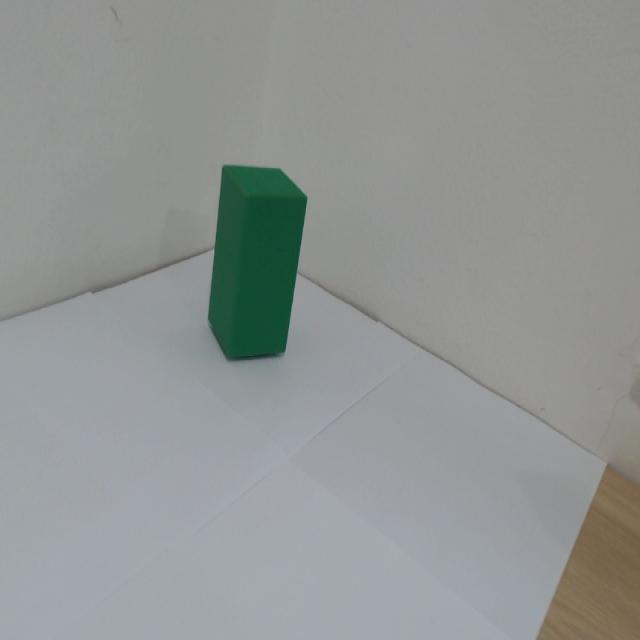cube: (199, 83, 349, 408)
